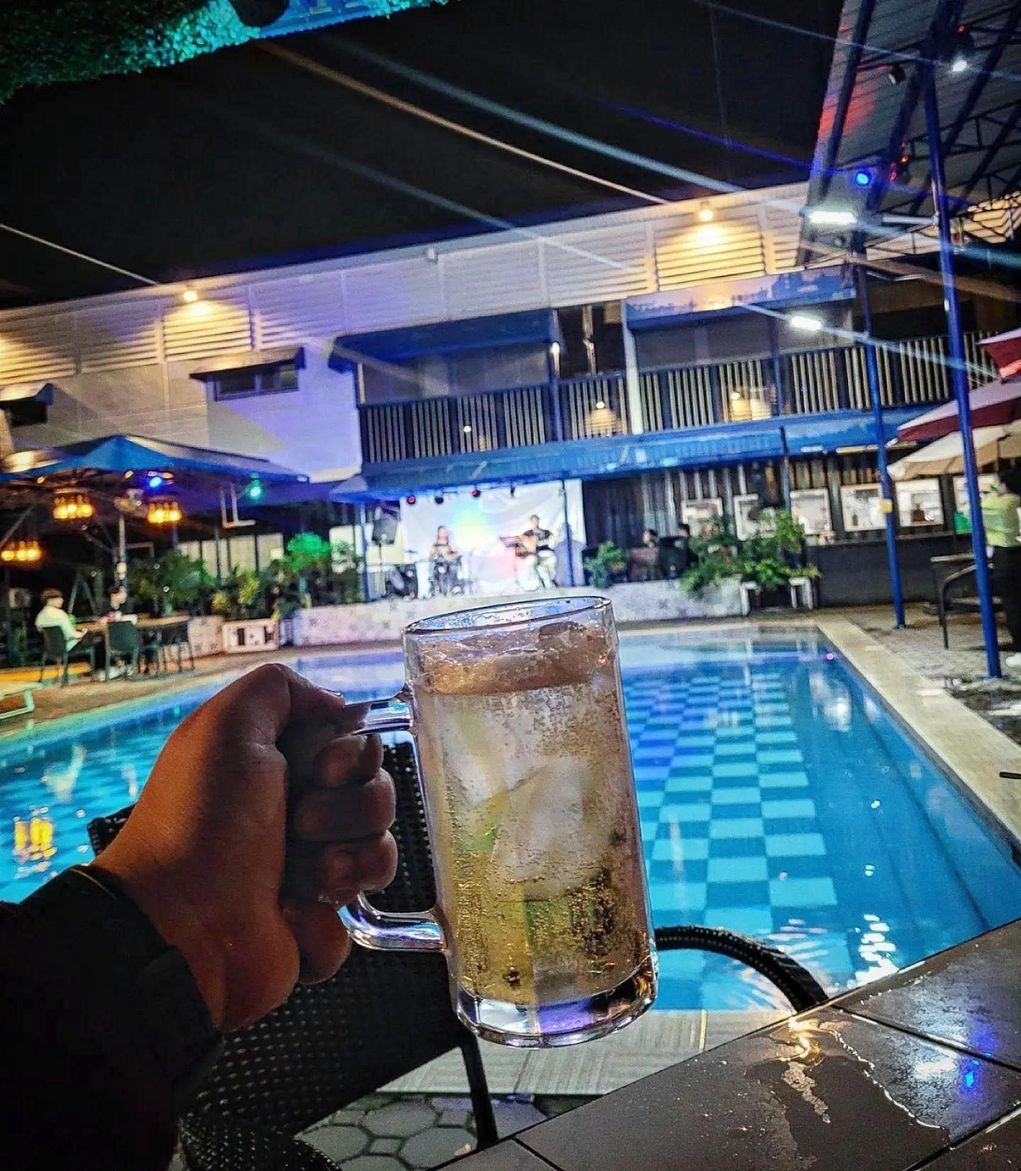glass-mug: (331, 578, 669, 1054)
